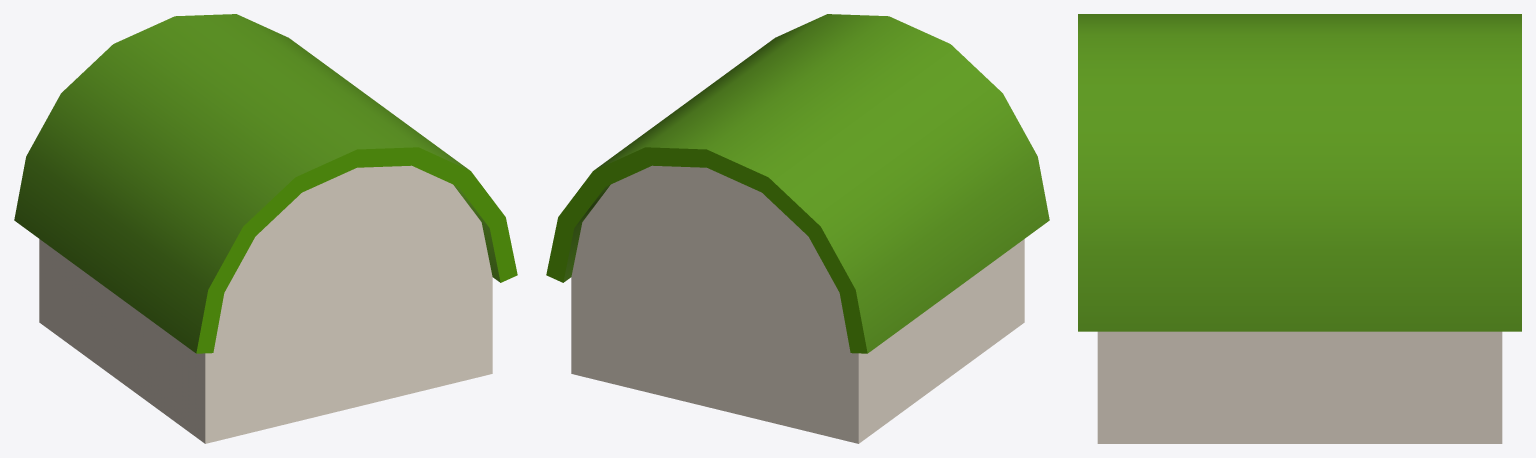
Rendered from Map-House-R-Lv1-G.fbx.
3 views of the same model, side by side, from view 1: azimuth 30°, elevation 25°; view 2: azimuth 150°, elevation 25°; view 3: azimuth 270°, elevation 25° (orthographic). The views are drawn at different scales.
Visible parts, largest first — view 1: Map-House-R-Lv1-G; view 2: Map-House-R-Lv1-G; view 3: Map-House-R-Lv1-G.
Part boxes in pixels (<box>): Map-House-R-Lv1-G: <box>14,14,517,443</box>; Map-House-R-Lv1-G: <box>546,14,1049,443</box>; Map-House-R-Lv1-G: <box>1078,14,1521,443</box>.
Size of the model in its own units: 1.13 by 0.8886 by 1.11.
